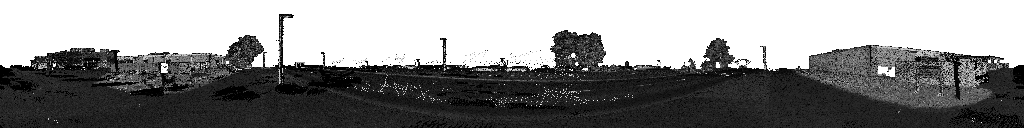light_pole: (278, 15, 293, 86), (440, 39, 446, 73), (760, 47, 766, 67), (262, 53, 266, 69), (321, 52, 325, 65)
traffic_pole: (735, 60, 750, 79)
